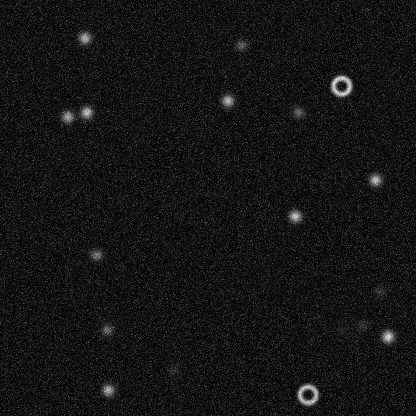Ring: (329, 73, 353, 97), (295, 382, 319, 406)
Spot: (78, 104, 94, 120), (367, 171, 383, 187), (99, 381, 115, 397), (219, 92, 235, 108), (99, 321, 115, 337), (165, 362, 181, 378), (286, 208, 302, 224), (379, 328, 395, 344), (354, 317, 370, 333), (76, 29, 92, 45), (333, 321, 349, 337), (59, 108, 75, 124), (371, 283, 387, 299), (88, 246, 104, 262), (290, 104, 306, 120), (232, 37, 248, 53)
